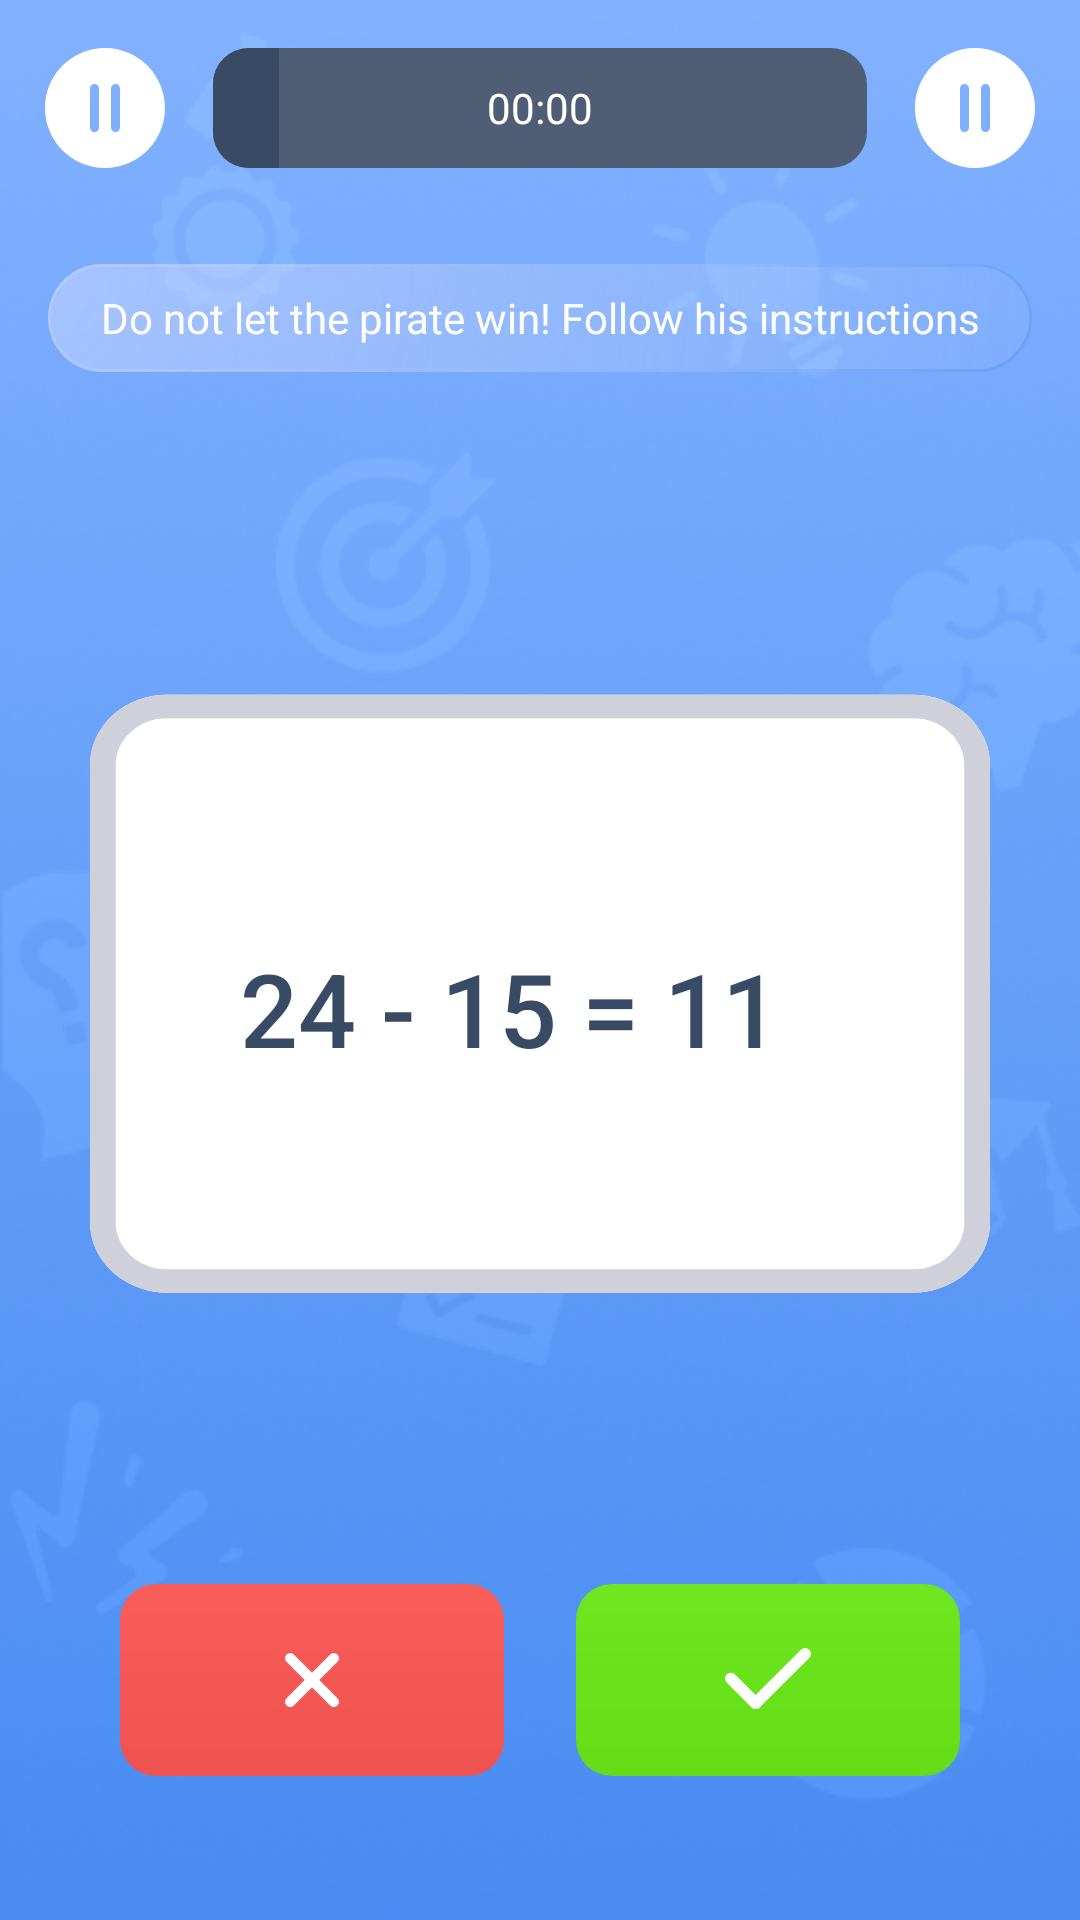

Named icons in this screenshot (1080x1920) and their bounding boxes, bbox=[x1, y1, x2, y2]:
pause: bbox=[45, 48, 165, 168], bbox=[915, 48, 1035, 168]
